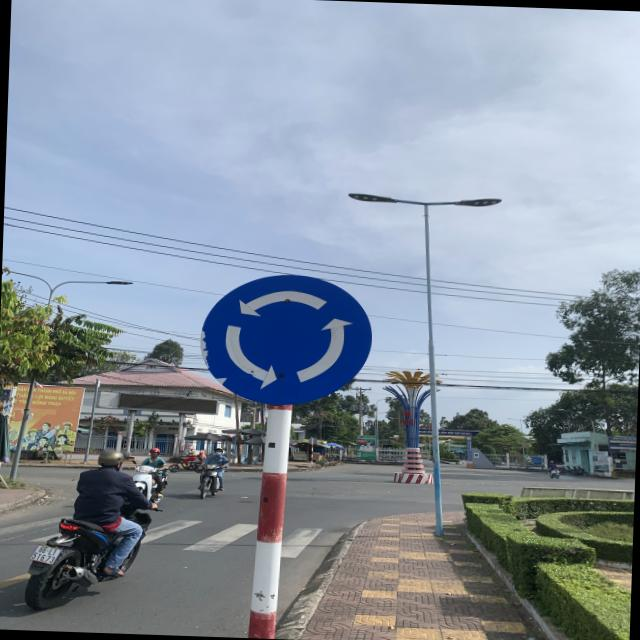Xe_Bus: (198, 272, 372, 410)
